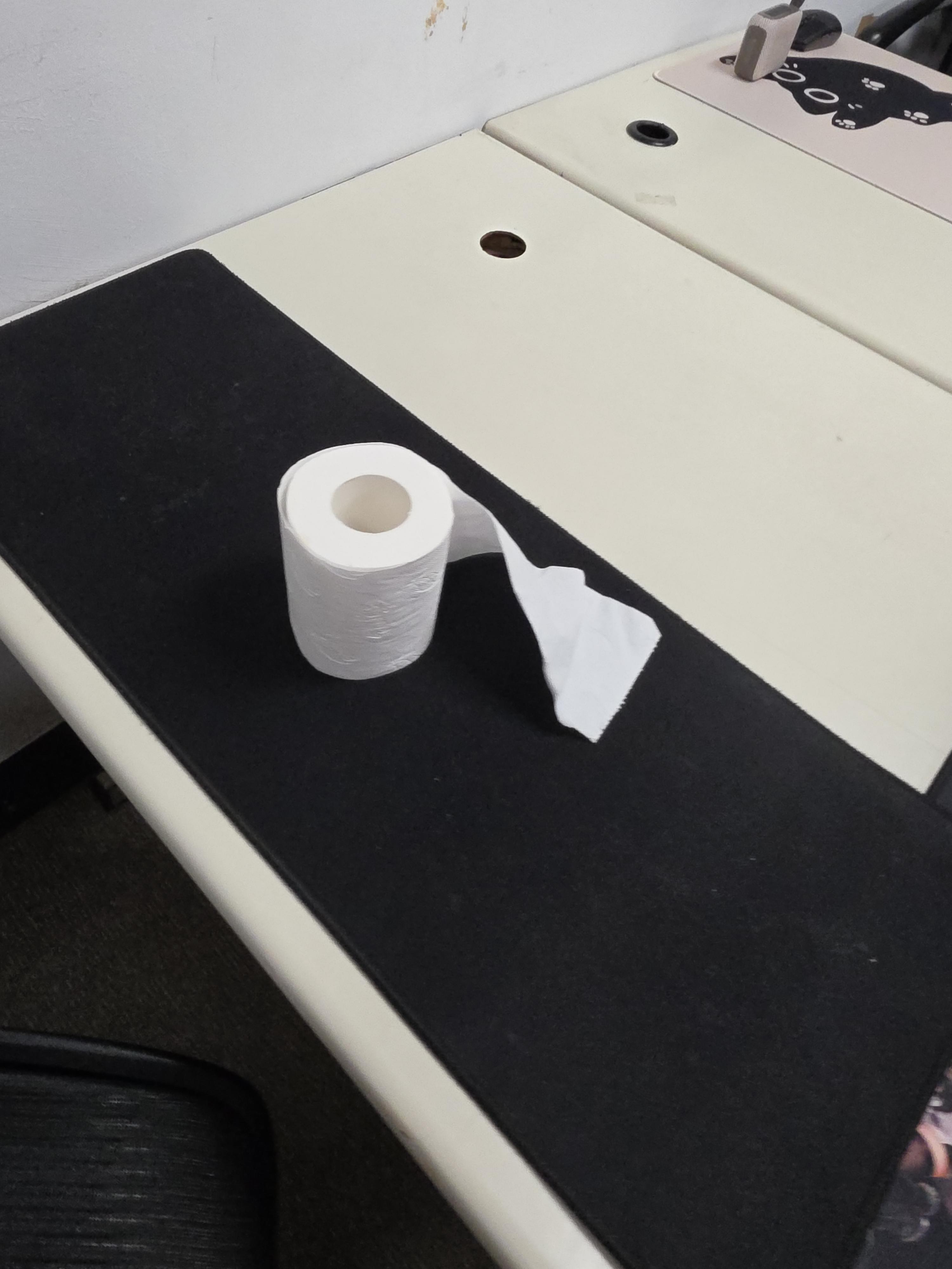tissue: (276, 442, 661, 744)
